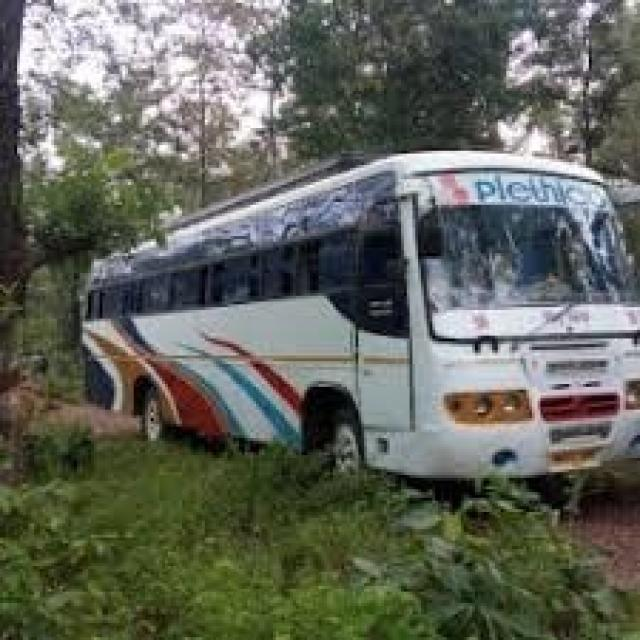bus: (79, 154, 640, 477)
